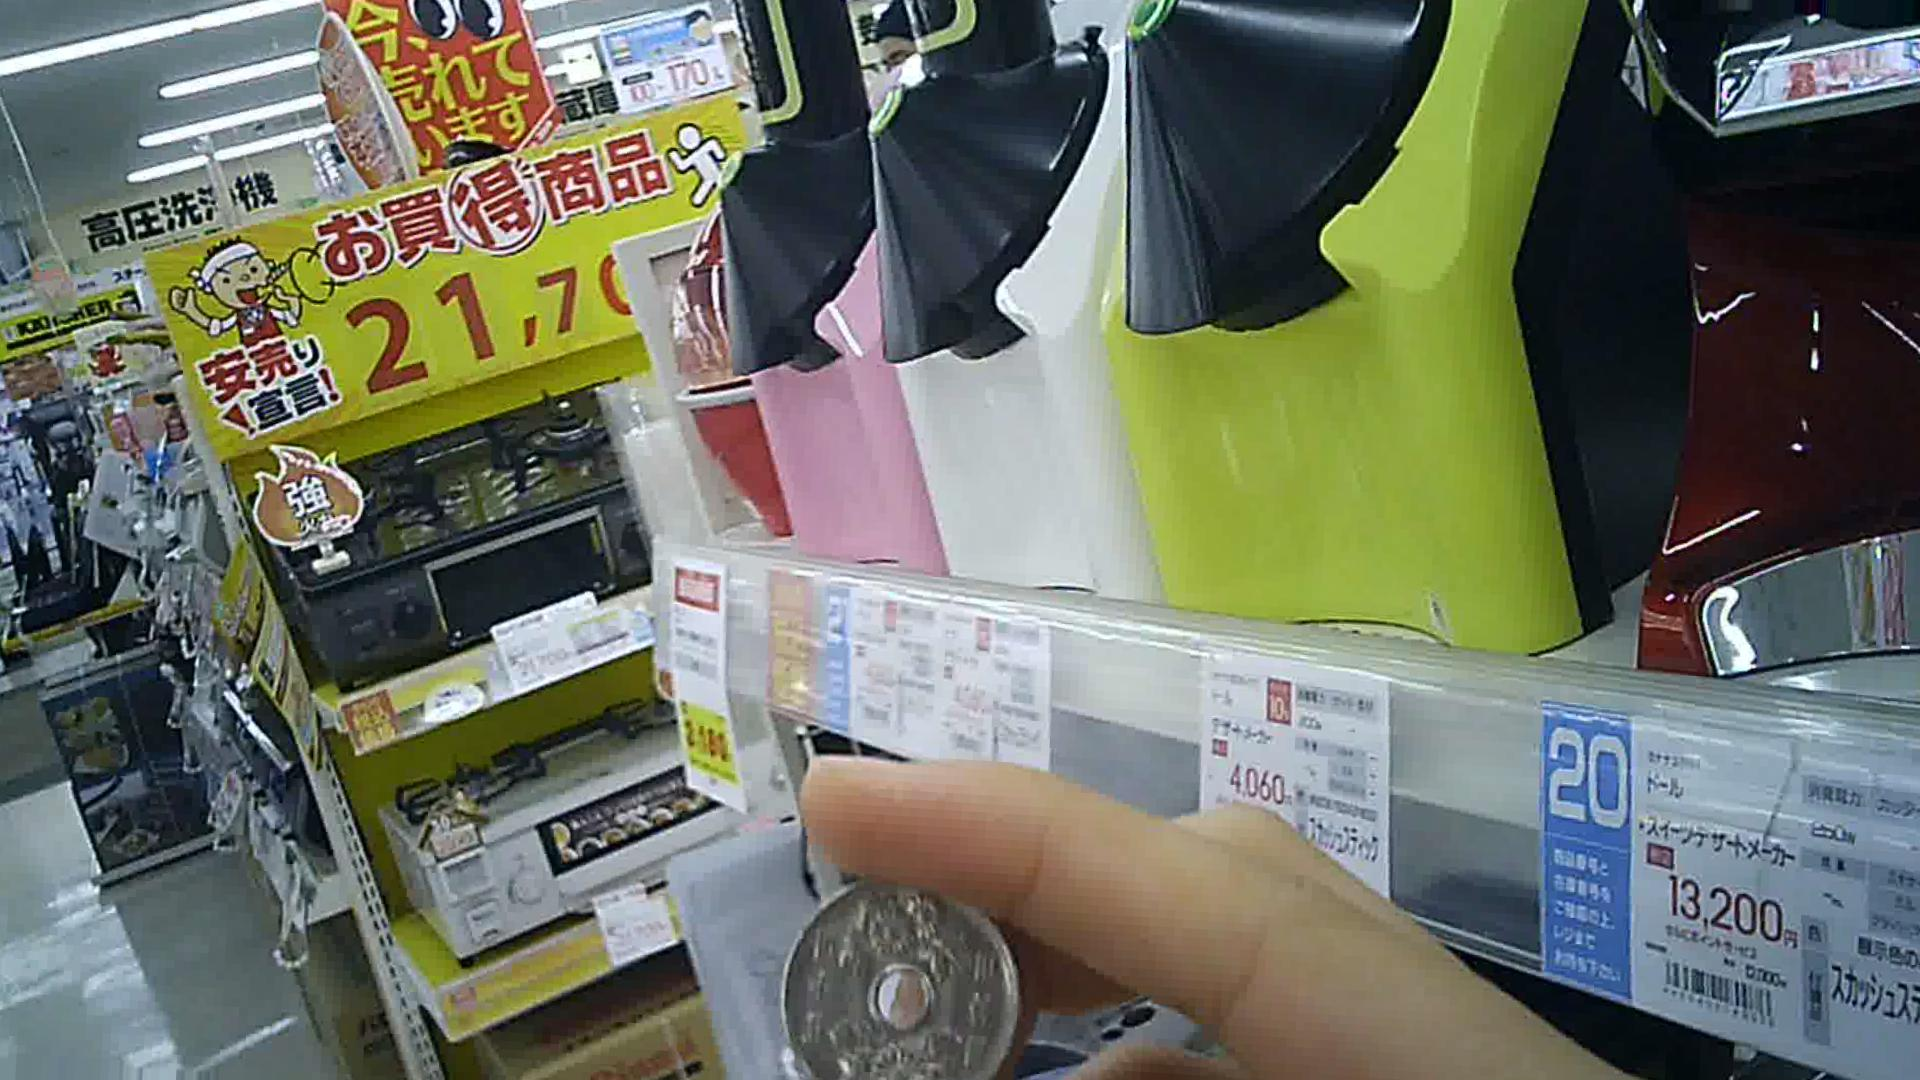50 Yen: (771, 860, 1025, 1079)
